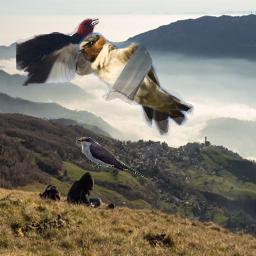Cuckoo: (76, 137, 147, 180)
Swallow: (76, 32, 194, 136)
Woodpecker: (16, 15, 108, 86)
